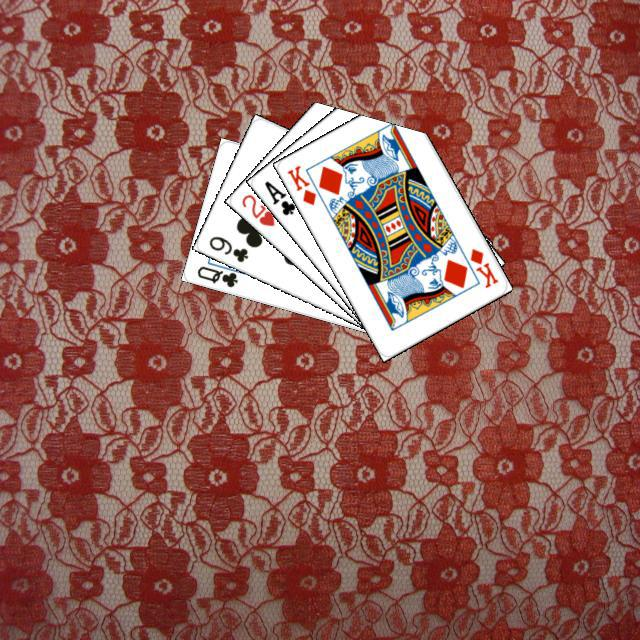2h: (237, 189, 276, 228)
9c: (204, 231, 250, 264)
Ac: (259, 176, 297, 217)
Kd: (282, 160, 318, 207), (465, 243, 500, 290)
Qc: (192, 255, 246, 289)
